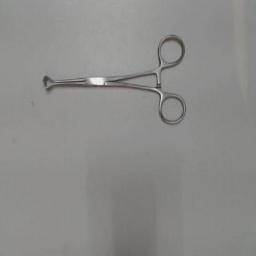Babcock Tissue Forceps: (38, 32, 186, 128)
